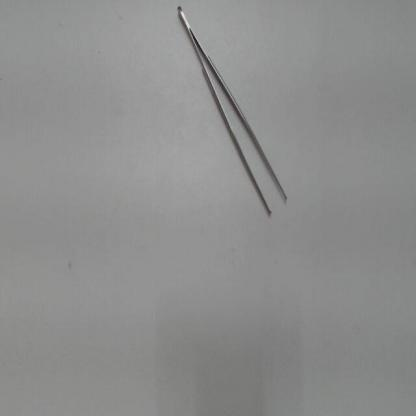Gillies Toothed Dissector: (175, 2, 298, 224)
